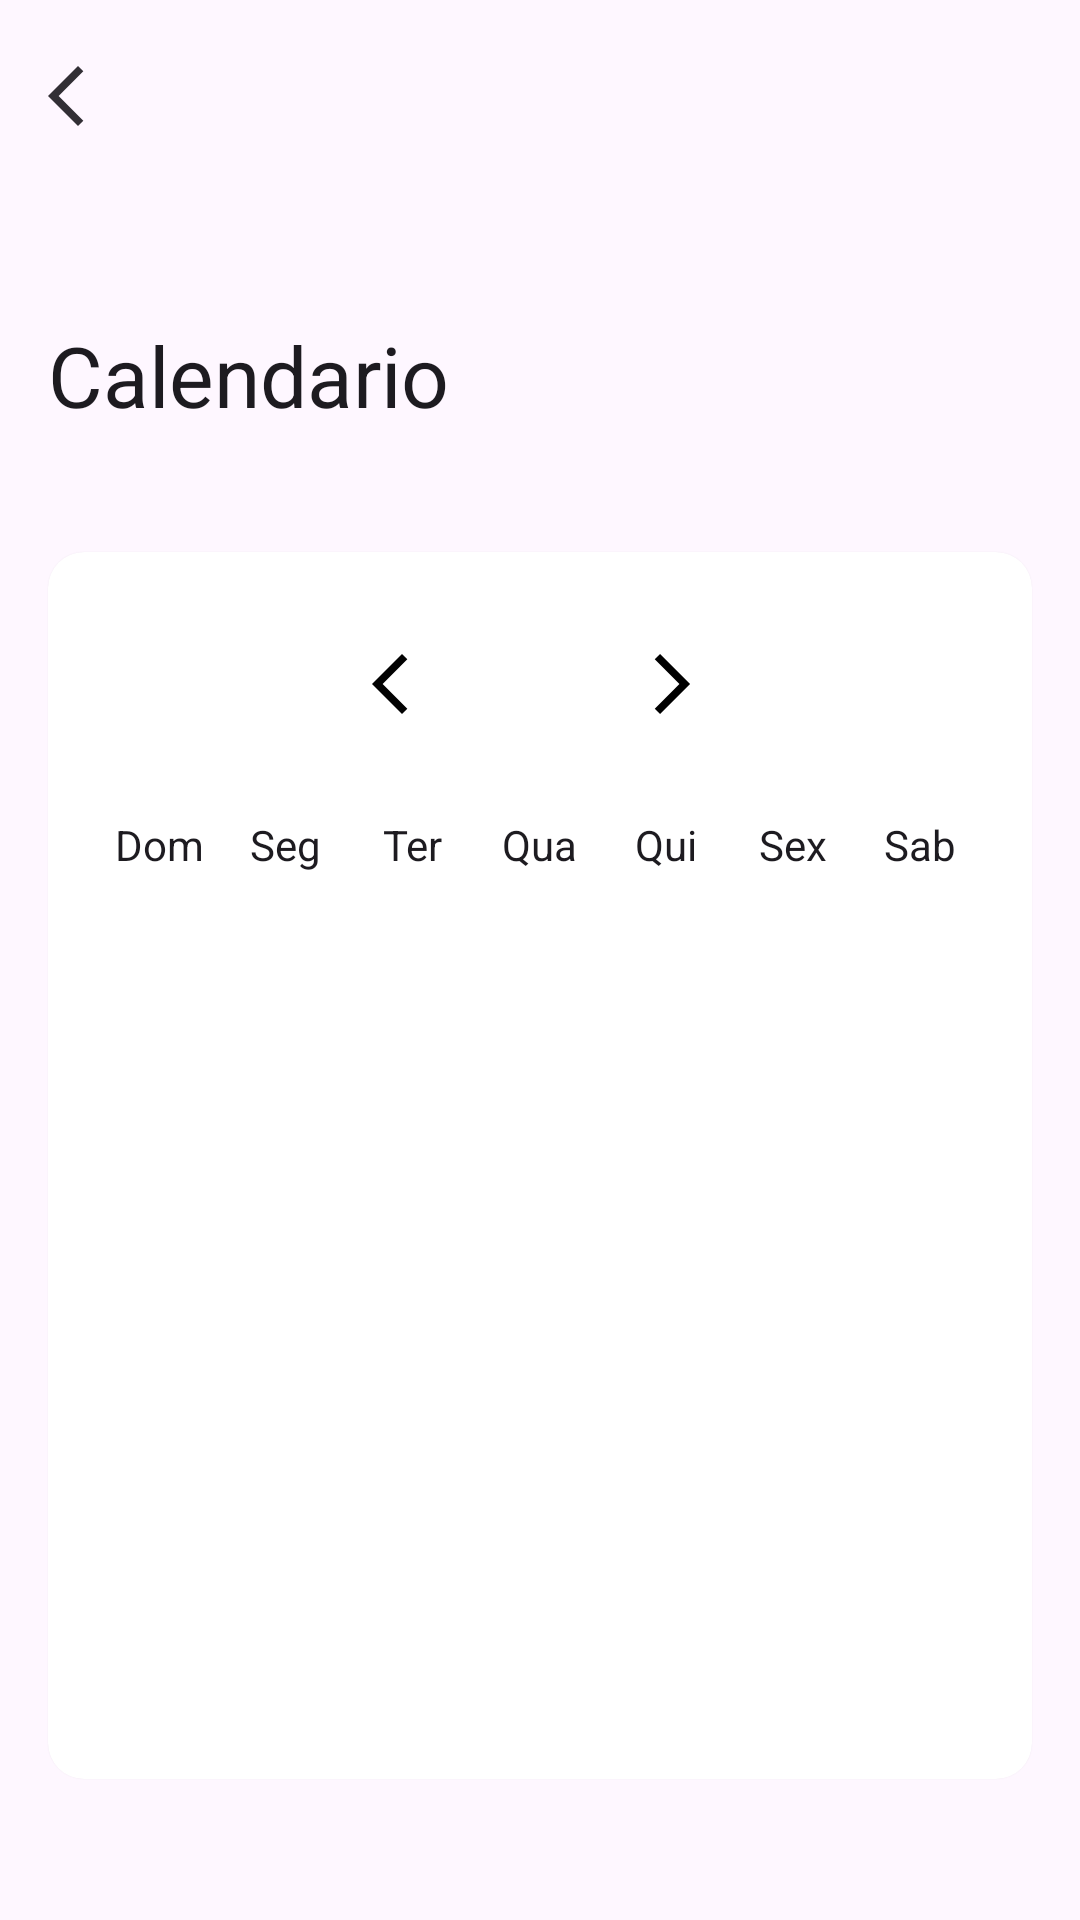

Icons on this 1080 x 1920 Android screen, each with the point to tap as (x,y):
arrow back: (389,684)
arrow forward: (672,684)
